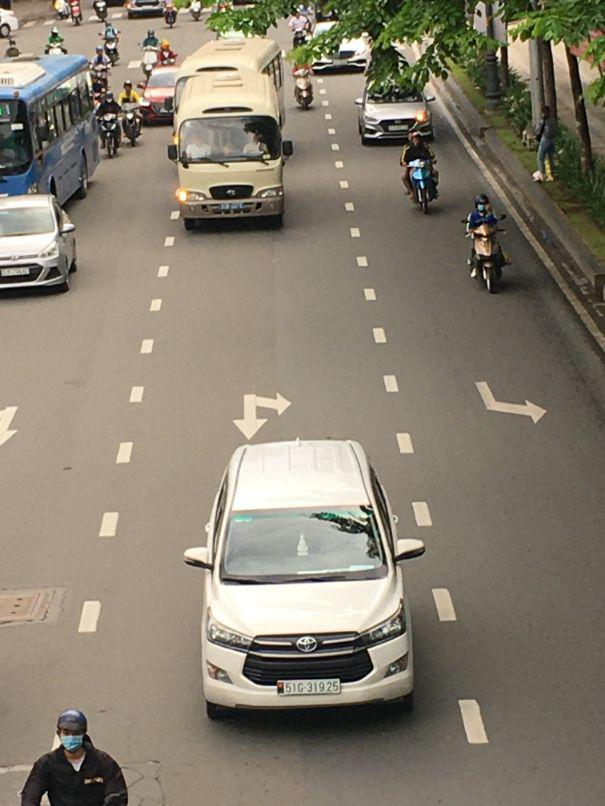bus: (0, 47, 100, 217), (170, 105, 286, 236), (172, 34, 287, 155)
car: (190, 436, 420, 723), (1, 194, 80, 301), (141, 68, 178, 126), (1, 8, 22, 38)
motorbike: (467, 220, 512, 292), (401, 146, 439, 214), (99, 113, 122, 156), (294, 76, 314, 108)
